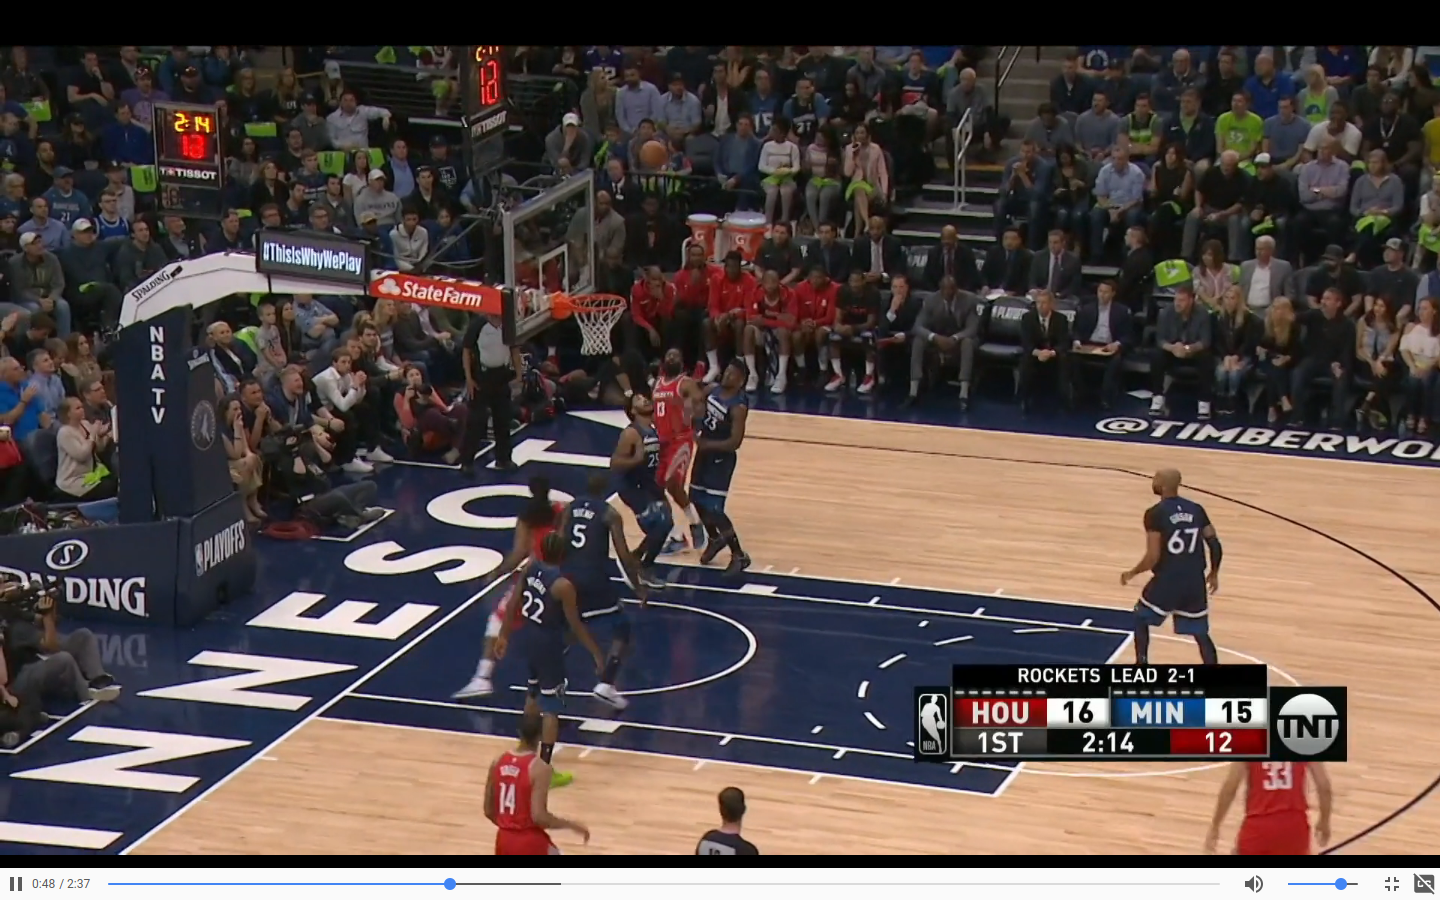player: (1129, 464, 1236, 673), (519, 539, 603, 713), (480, 719, 580, 859), (640, 352, 705, 538), (622, 396, 672, 581), (705, 366, 745, 574)
referee: (469, 322, 516, 482)
